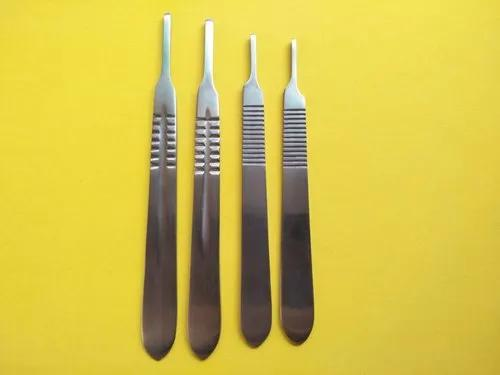Knife Handle: (185, 15, 233, 363), (141, 14, 182, 363), (274, 34, 319, 349), (234, 32, 274, 352)
